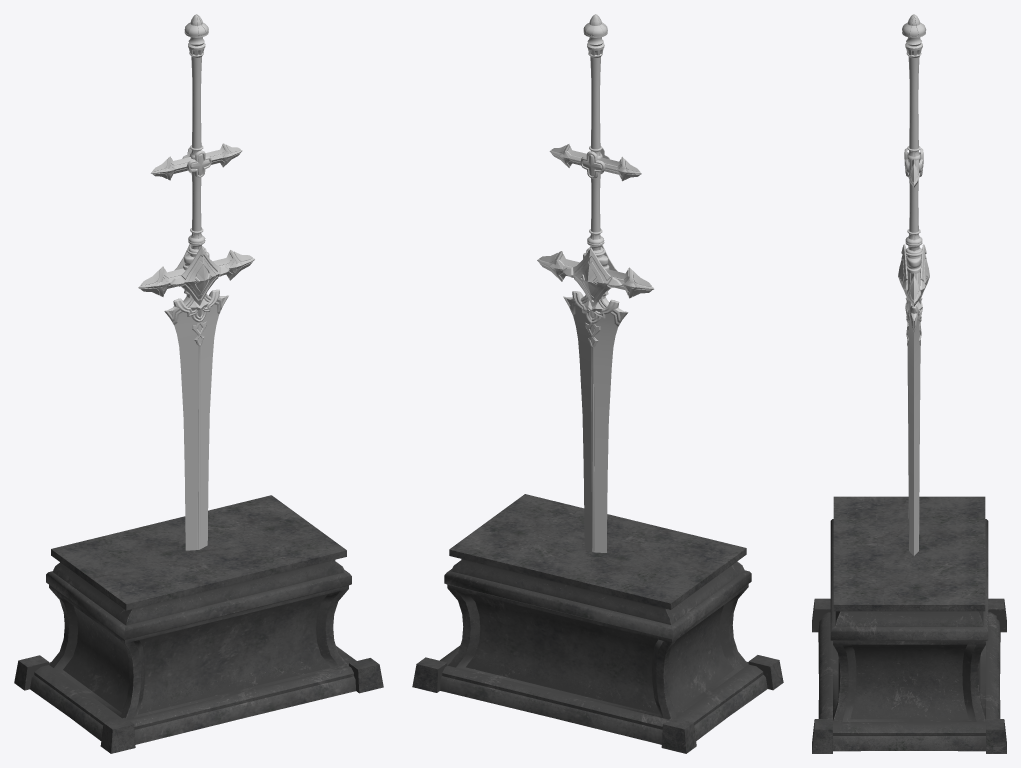
The model's file is Excalibur_End.fbx.
3 renders of one model, left to right at view 1: azimuth 30°, elevation 25°; view 2: azimuth 150°, elevation 25°; view 3: azimuth 270°, elevation 25°, orthographic.
Visible parts, largest first — view 1: Stone004, Excalibur; view 2: Stone004, Excalibur; view 3: Stone004, Excalibur.
Part boxes in pixels (x1,y1,x2,y2): Stone004: (14,495,383,753); Excalibur: (138,14,254,550); Stone004: (412,494,783,753); Excalibur: (537,14,653,552); Stone004: (812,496,1006,753); Excalibur: (898,14,929,555).
Size of the model in its own units: 158 by 371 by 97.32.
